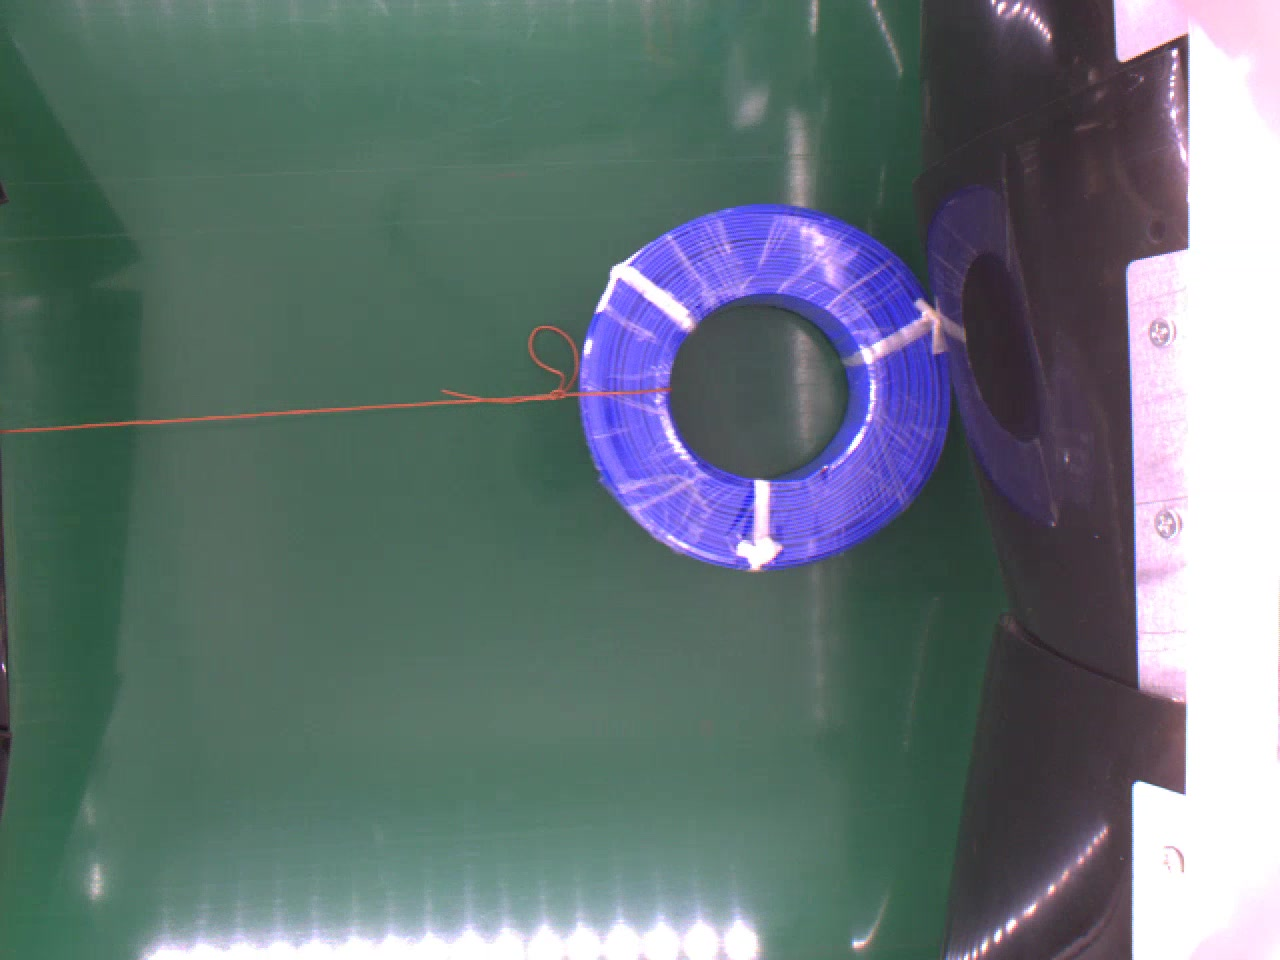blue: (574, 202, 954, 566)
